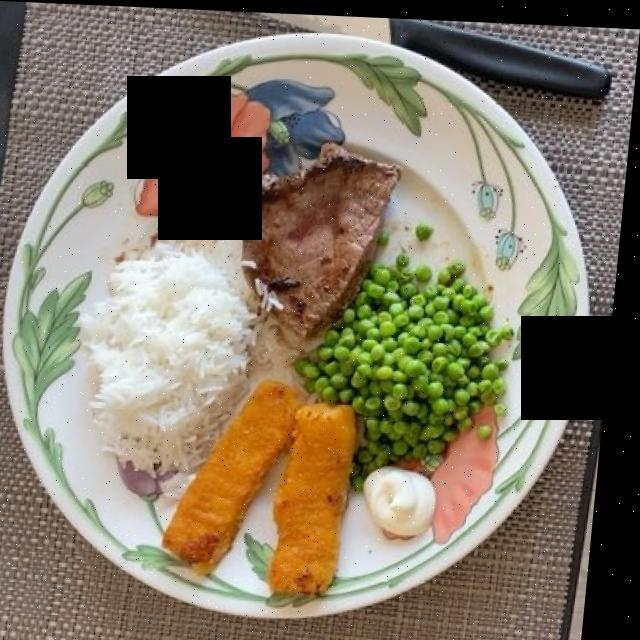fish: (170, 385, 368, 584)
mayonnaise: (374, 449, 449, 537)
peas: (296, 216, 517, 481)
rice: (90, 236, 262, 484)
